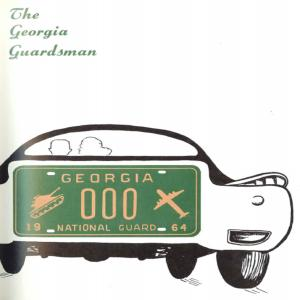Vehicle-registration-plate: (14, 164, 203, 240)
